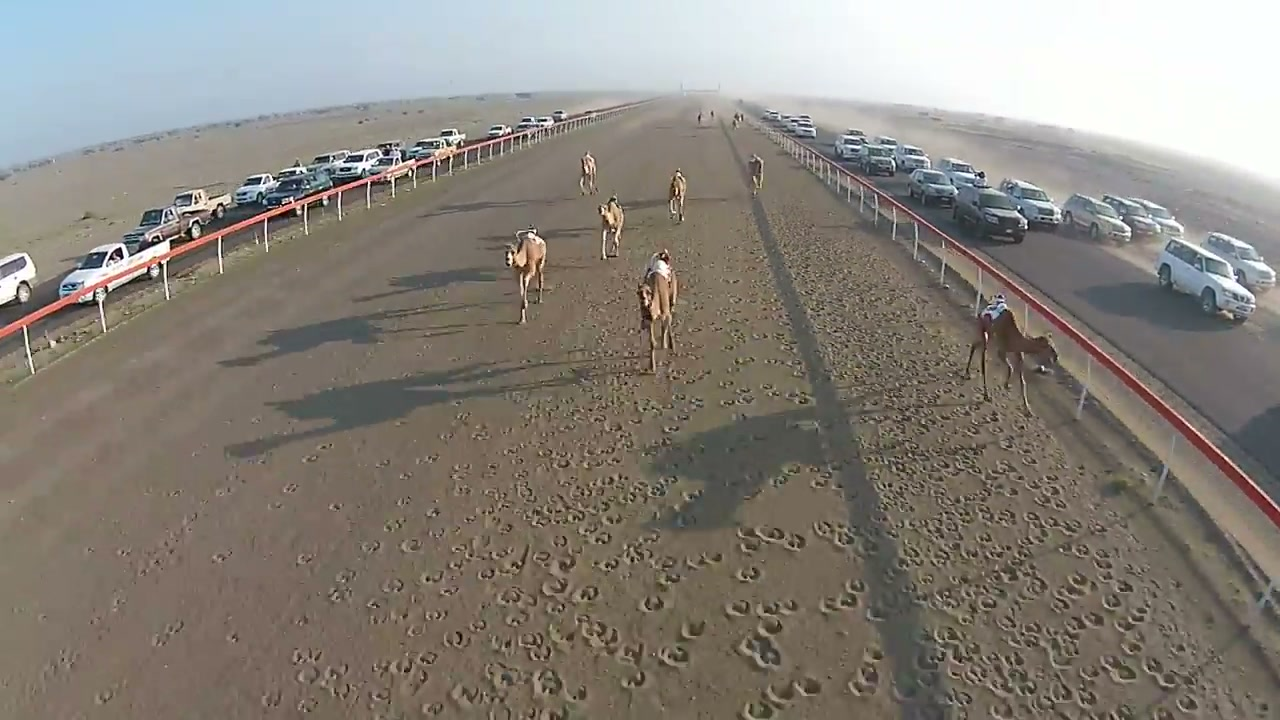animal_footprint: (33, 135, 1276, 717)
